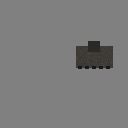armoured_vehicle: (76, 46, 113, 68)
